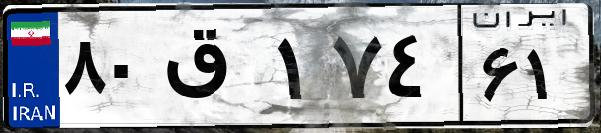0: (110, 28, 158, 98)
1: (270, 28, 330, 110), (525, 38, 570, 115)
4: (385, 28, 445, 110)
6: (475, 38, 525, 113)
7: (330, 28, 385, 110)
8: (57, 26, 110, 100)
ق: (158, 20, 270, 120)
